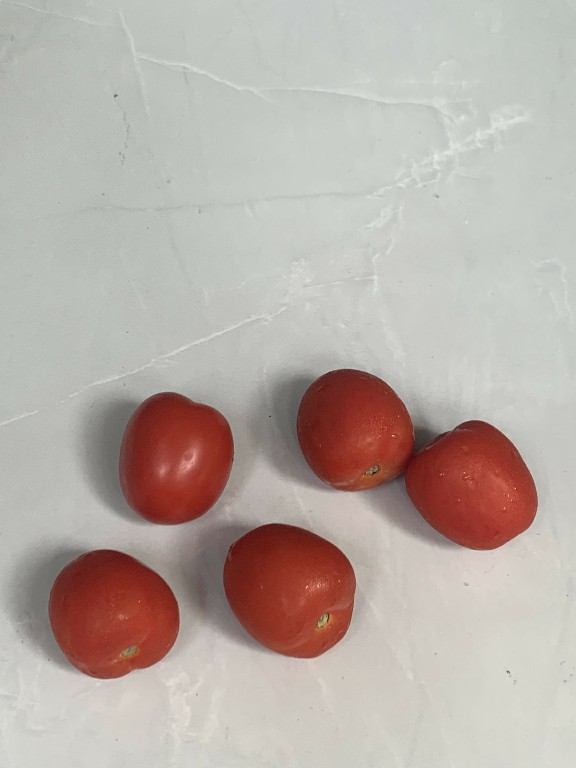OK: (221, 508, 368, 667), (406, 415, 557, 563), (291, 353, 421, 503), (48, 543, 181, 678), (118, 387, 241, 526)
